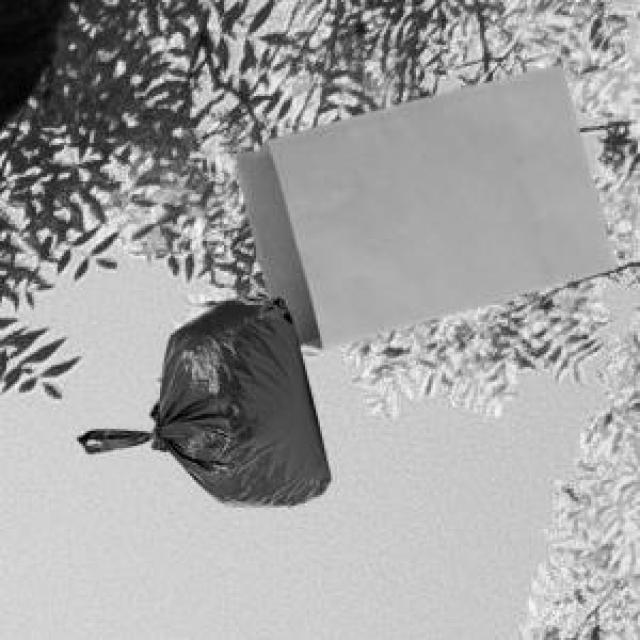miscellaneous trash: (73, 290, 326, 504)
paper: (233, 62, 612, 344)
